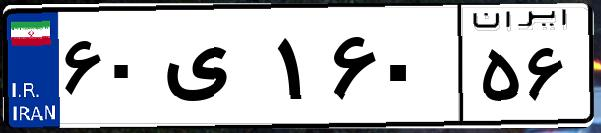0: (385, 28, 445, 110), (110, 28, 158, 98)
1: (270, 28, 330, 110)
5: (475, 38, 525, 113)
6: (330, 28, 385, 110), (57, 26, 110, 100), (525, 38, 570, 115)
ی: (158, 20, 270, 120)
